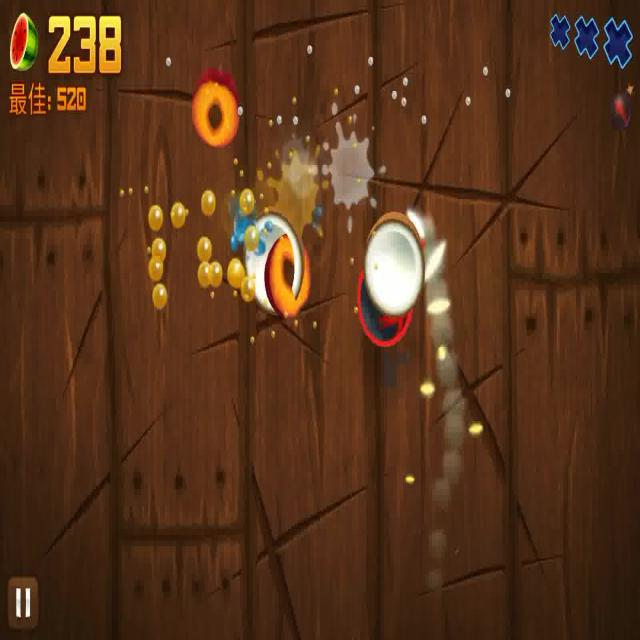bomb: (352, 257, 419, 349)
fruit: (368, 202, 432, 310), (238, 208, 301, 315), (268, 228, 308, 341), (187, 72, 236, 151)
